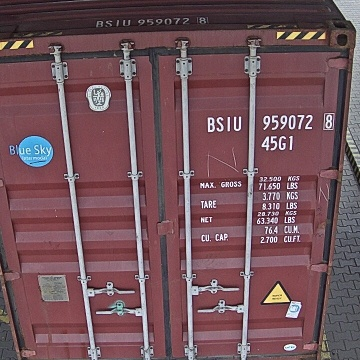serial_id: (207, 113, 335, 132)
